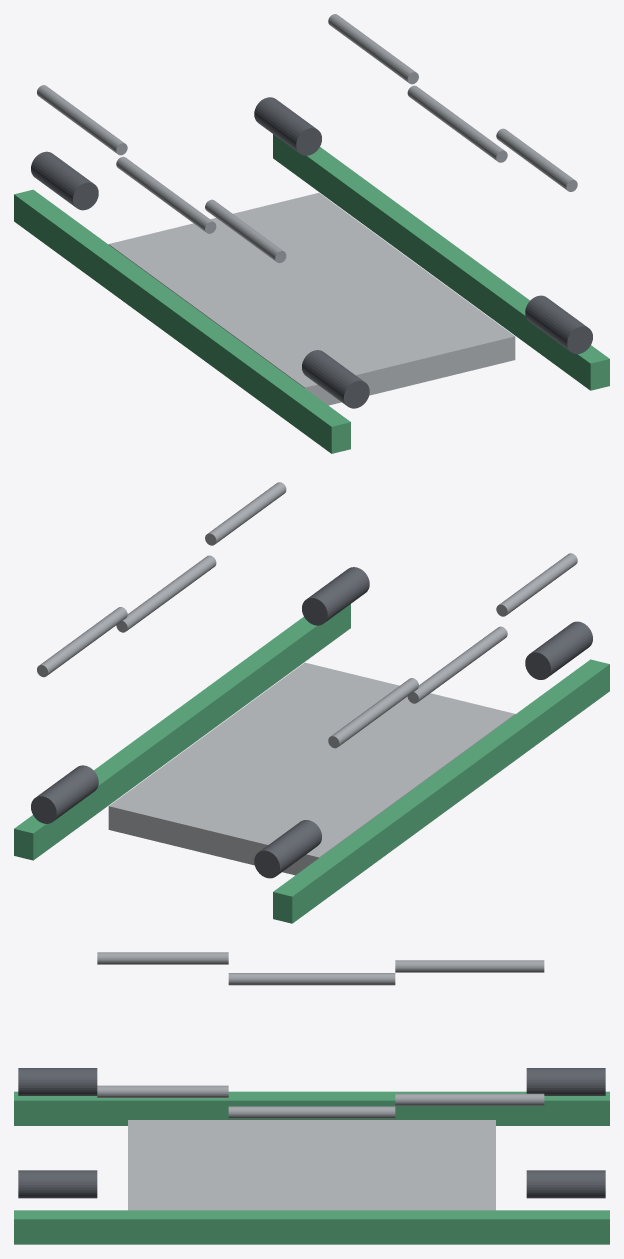
File: skeletalModel.glb
3 renders of one model, top to bottom at view 1: azimuth 30°, elevation 25°; view 2: azimuth 150°, elevation 25°; view 3: azimuth 270°, elevation 25°, orthographic. The views are drawn at different scales.
Visible parts, largest first — view 1: Battery_Platform, Chassis_Rail_Left, Chassis_Rail_Right, Suspension_3, Suspension_1, Suspension_2, Suspension_4, B_Pillar_R, B_Pillar_L, C_Pillar_L, C_Pillar_R, A_Pillar_L (+1 smaller); view 2: Battery_Platform, Chassis_Rail_Left, Chassis_Rail_Right, Suspension_4, Suspension_3, Suspension_1, Suspension_2, B_Pillar_R, B_Pillar_L, C_Pillar_R, C_Pillar_L, A_Pillar_L (+1 smaller); view 3: Battery_Platform, Chassis_Rail_Right, Chassis_Rail_Left, Suspension_2, Suspension_4, Suspension_1, Suspension_3, B_Pillar_R, B_Pillar_L, C_Pillar_L, C_Pillar_R, A_Pillar_L (+1 smaller).
Part boxes in pixels (x1=…): Battery_Platform: x1=108, y1=193, x2=515, y2=405; Chassis_Rail_Left: x1=14, y1=189, x2=350, y2=453; Chassis_Rail_Right: x1=273, y1=134, x2=609, y2=390; Suspension_3: x1=31, y1=151, x2=98, y2=210; Suspension_1: x1=302, y1=350, x2=369, y2=408; Suspension_2: x1=525, y1=295, x2=592, y2=353; Suspension_4: x1=254, y1=97, x2=321, y2=155; B_Pillar_R: x1=407, y1=85, x2=507, y2=162; B_Pillar_L: x1=116, y1=156, x2=216, y2=233; C_Pillar_L: x1=37, y1=85, x2=127, y2=155; C_Pillar_R: x1=328, y1=14, x2=418, y2=84; A_Pillar_L: x1=205, y1=199, x2=286, y2=263; Battery_Platform: x1=108, y1=662, x2=515, y2=875; Chassis_Rail_Left: x1=273, y1=659, x2=609, y2=923; Chassis_Rail_Right: x1=14, y1=604, x2=350, y2=860; Suspension_4: x1=31, y1=765, x2=98, y2=823; Suspension_3: x1=254, y1=820, x2=321, y2=878; Suspension_1: x1=525, y1=621, x2=592, y2=679; Suspension_2: x1=302, y1=567, x2=369, y2=625; B_Pillar_R: x1=116, y1=555, x2=216, y2=632; B_Pillar_L: x1=407, y1=626, x2=507, y2=703; C_Pillar_R: x1=37, y1=607, x2=127, y2=677; C_Pillar_L: x1=328, y1=678, x2=418, y2=748; A_Pillar_L: x1=496, y1=553, x2=577, y2=616; Battery_Platform: x1=128, y1=1120, x2=495, y2=1210; Chassis_Rail_Right: x1=14, y1=1210, x2=609, y2=1244; Chassis_Rail_Left: x1=14, y1=1091, x2=609, y2=1125; Suspension_2: x1=18, y1=1170, x2=97, y2=1198; Suspension_4: x1=526, y1=1170, x2=605, y2=1198; Suspension_1: x1=18, y1=1068, x2=97, y2=1095; Suspension_3: x1=526, y1=1068, x2=605, y2=1095; B_Pillar_R: x1=228, y1=1106, x2=395, y2=1118; B_Pillar_L: x1=228, y1=973, x2=395, y2=985; C_Pillar_L: x1=395, y1=960, x2=544, y2=972; C_Pillar_R: x1=395, y1=1093, x2=544, y2=1105; A_Pillar_L: x1=97, y1=952, x2=228, y2=964.
Size of the model in its own units: 1.87 by 1.07 by 3.4.
